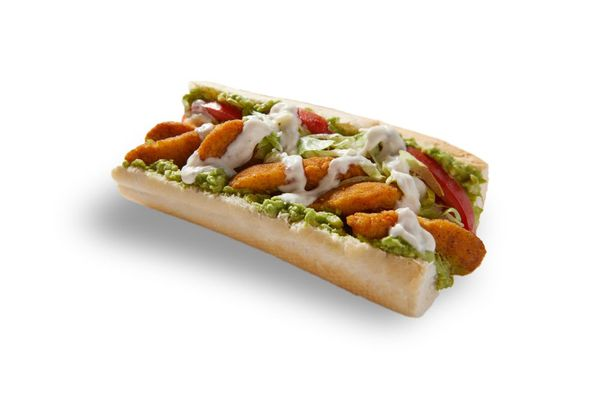soup: (111, 82, 493, 318)
